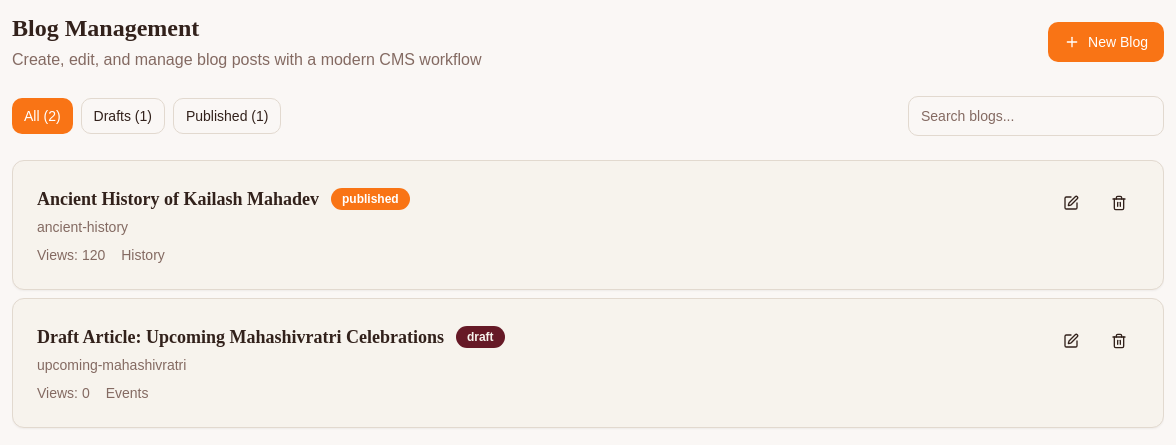
Scenario: AdminBlogManagement — Regression tests for Draft blog visibility › filters blogs by search query across title, slug, and excerpt
Type "mahashivratri" into the field with placeholder "Search blogs...". click: [1036, 116]
box: [908,96,1164,136]
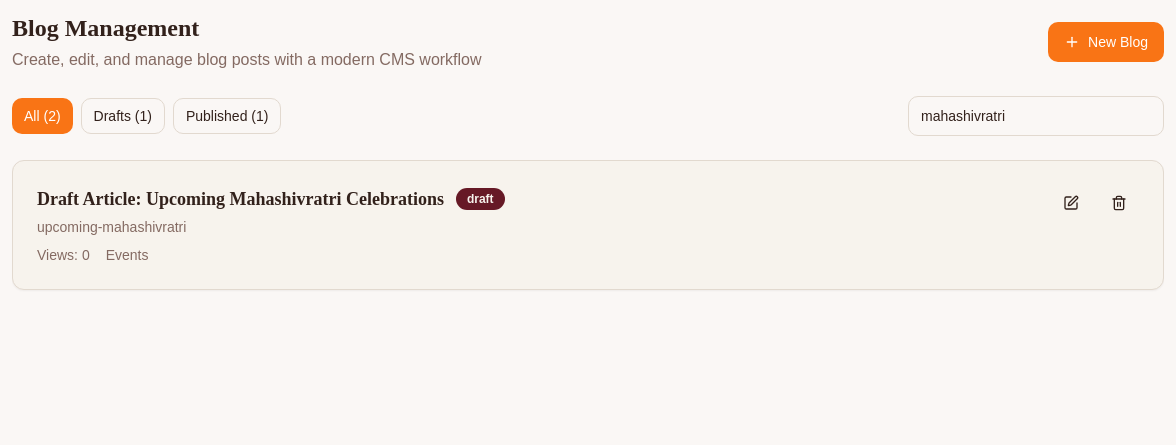
Check: the heading "Draft Article: Upcoming Mahashivratri Celebrations" is shown, box [37,185,444,213]
Check: the heading "Ancient History of Kailash Mahadev" is gone
